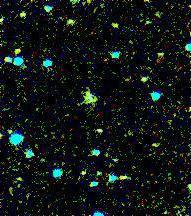star: (105, 13, 135, 43)
